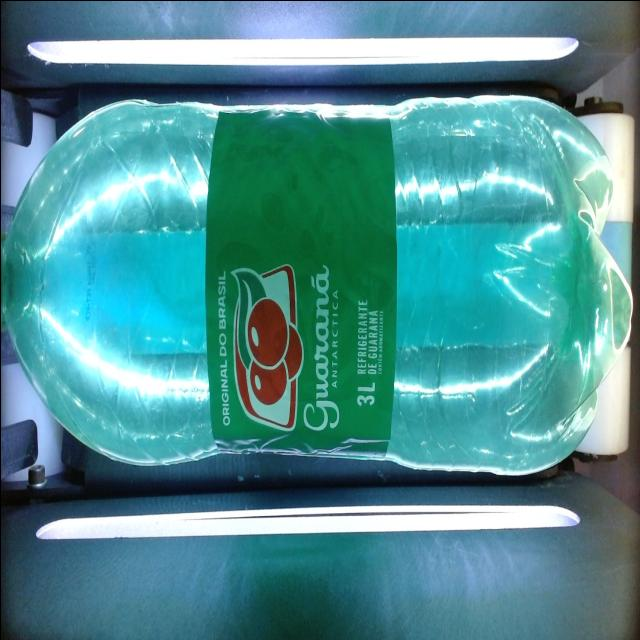bottom: (529, 73, 633, 493)
